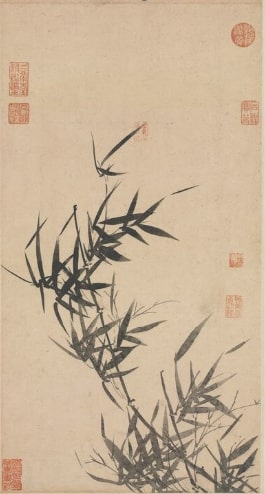bamboo: (24, 208, 256, 494)
